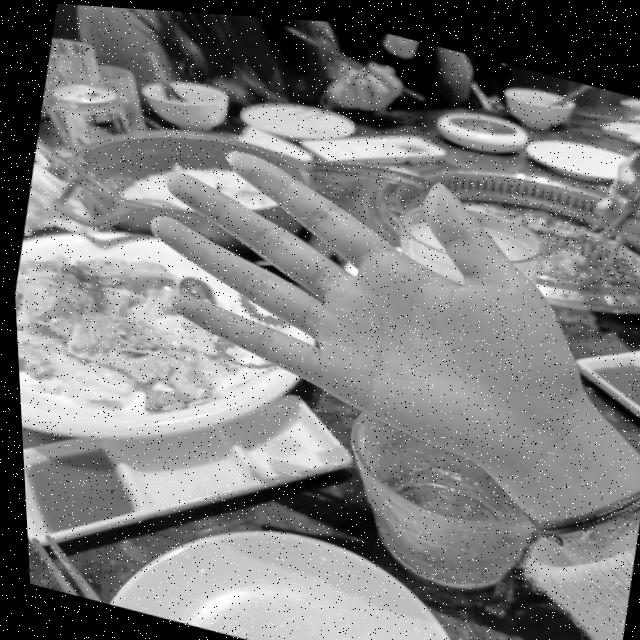hand: (88, 98, 640, 575)
